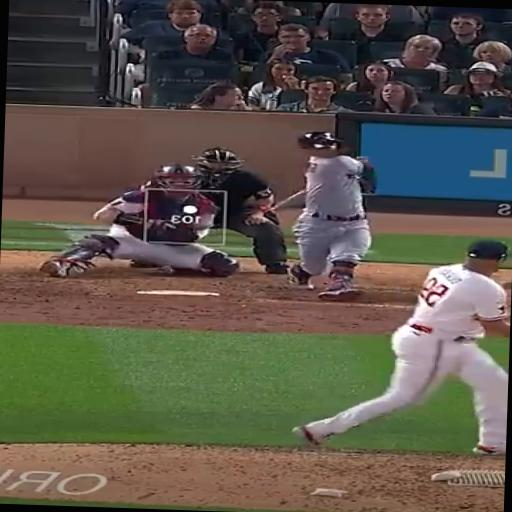bat: (254, 186, 303, 216)
